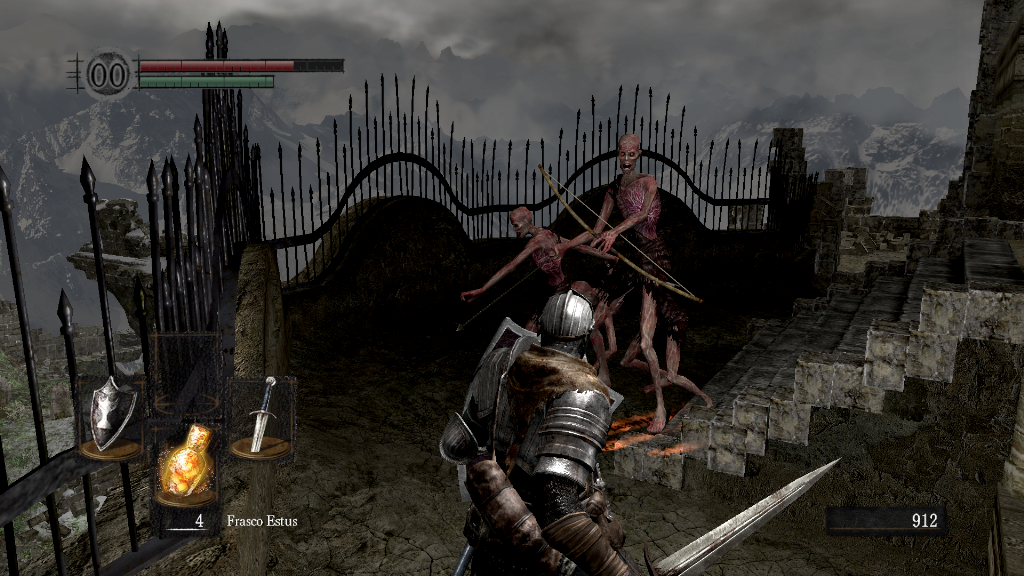health: (138, 58, 343, 71)
hollow: (537, 137, 699, 432), (463, 209, 614, 384)
humanity: (80, 45, 136, 102)
player: (437, 287, 844, 576)
souls: (825, 506, 945, 536)
stamina: (138, 74, 274, 88)
